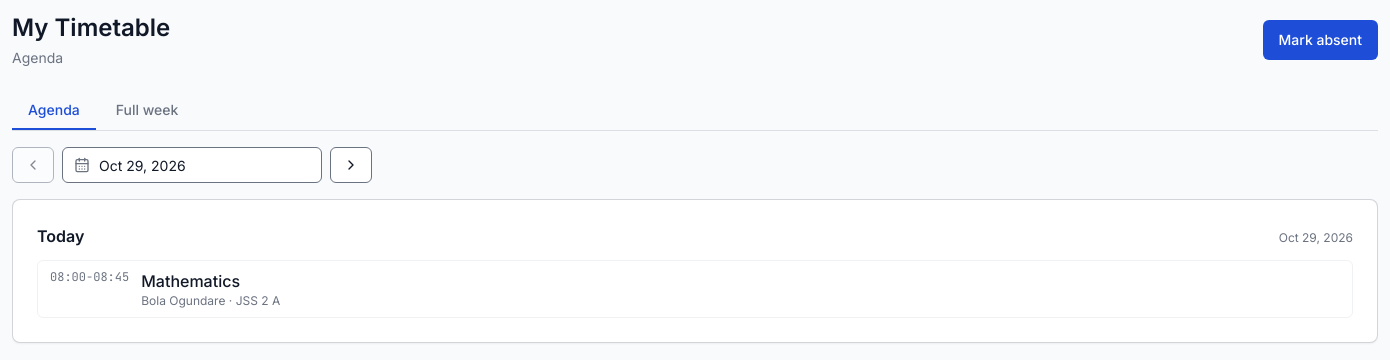
Scenario: TeacherTimetablePage › switches to the Full week tab, rendering the grid built from the timetable response alone
Expected: the text "Mathematics" is shown, [141,271,240,291]
Click the tab "Full week".
click(147, 111)  # box [100,92,194,130]
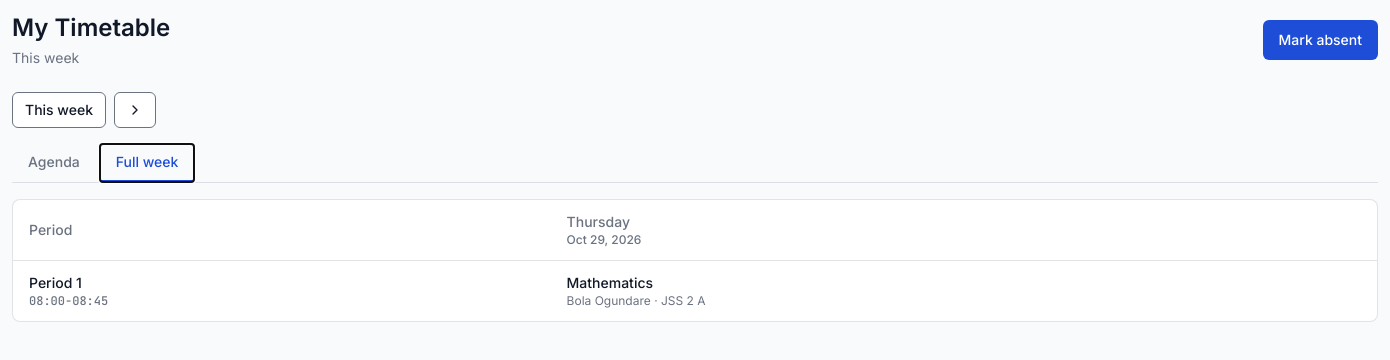
Expected: the text "Mathematics" is shown, [567,274,653,291]
Now the table is shown, box [13,200,1377,321]
Now the text "Period 1" is shown, box [29,274,82,291]
